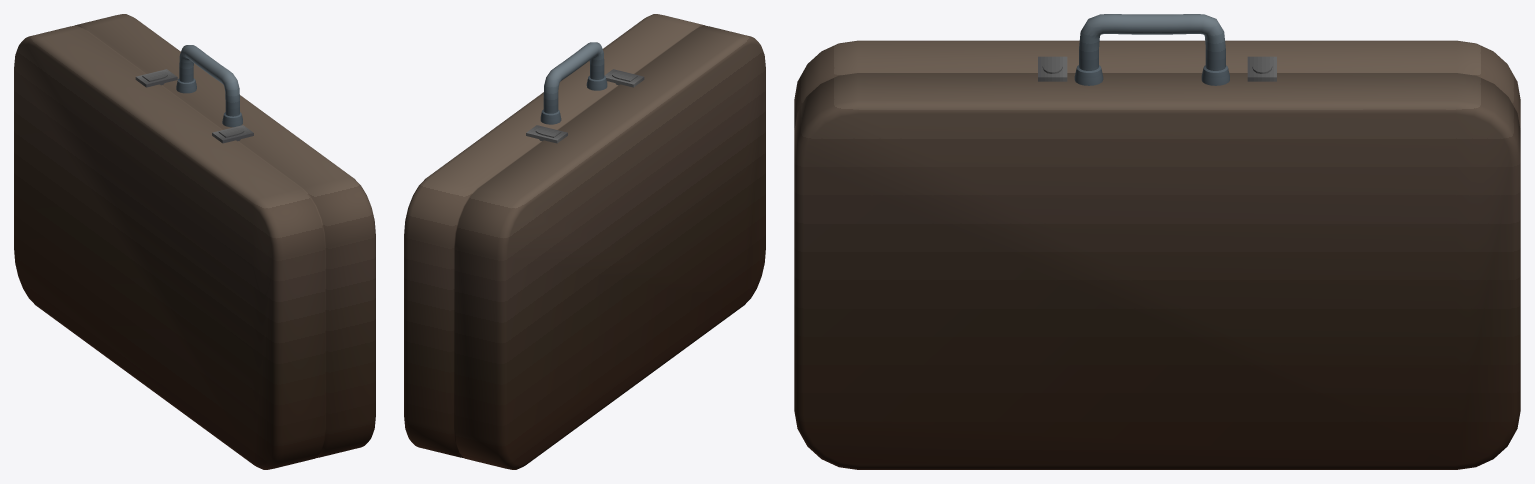
The model's file is suitcase.fbx.
3 views of the same model, side by side, from view 1: azimuth 30°, elevation 25°; view 2: azimuth 150°, elevation 25°; view 3: azimuth 270°, elevation 25° (orthographic). The views are drawn at different scales.
Parts seen in each view (by area): view 1: suitcase; view 2: suitcase; view 3: suitcase.
Boxes of the visible parts, <box> form: suitcase: <box>14,14,375,469</box>; suitcase: <box>404,14,765,469</box>; suitcase: <box>794,14,1520,469</box>.
Size of the model in its own units: 25.27 by 74.59 by 113.
